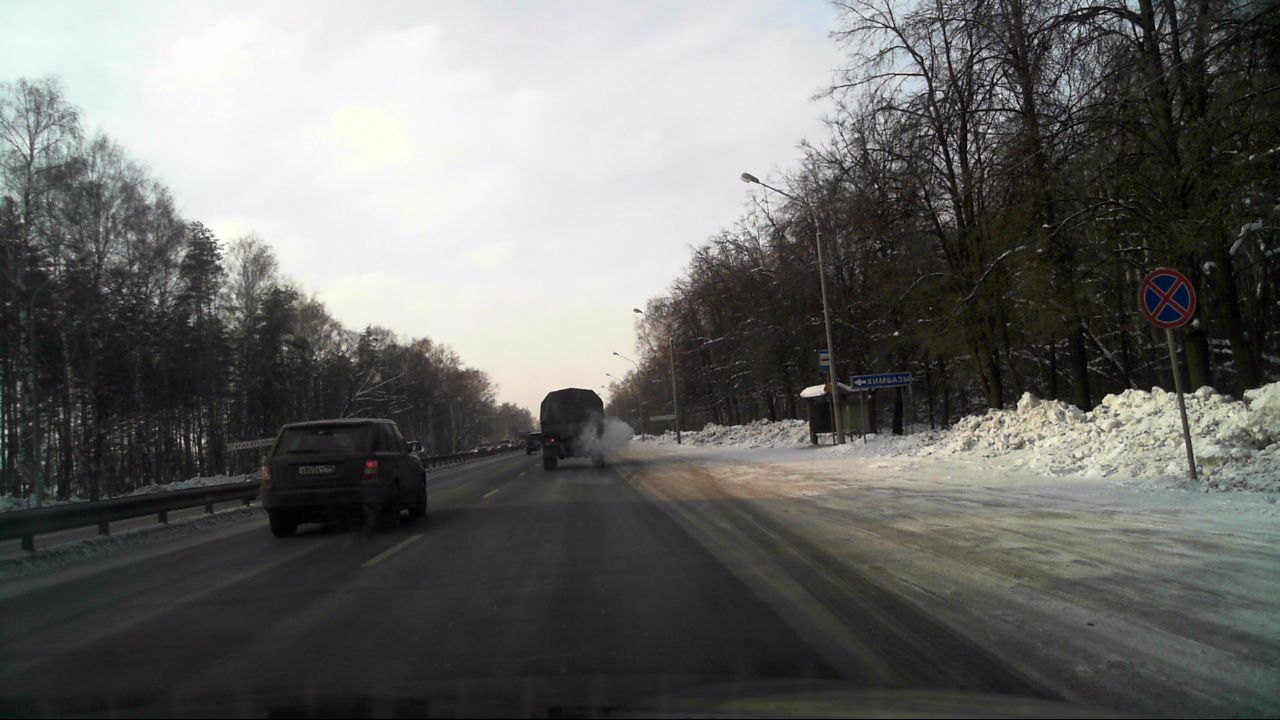No Parking: (1139, 270, 1195, 328)
